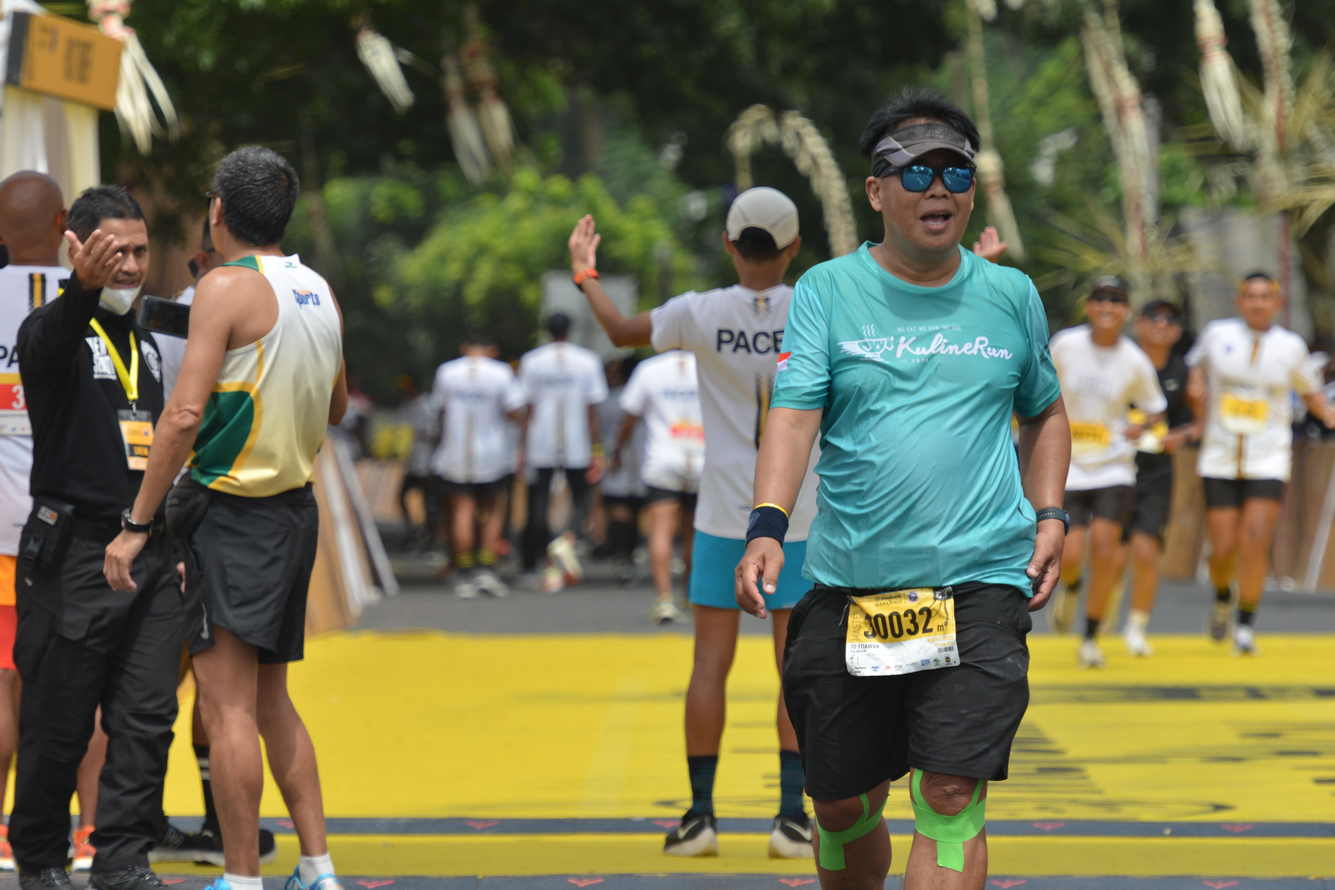bib: (842, 584, 960, 676), (1218, 390, 1270, 434), (1069, 420, 1114, 457)
